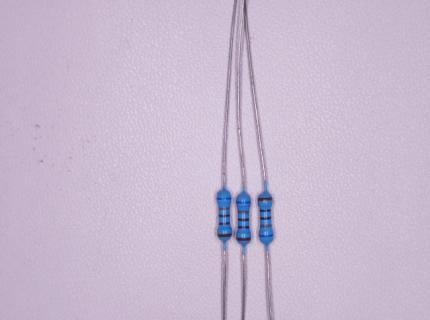Black band: (219, 214, 230, 218), (260, 217, 272, 220), (238, 226, 250, 229), (260, 209, 271, 212), (238, 218, 249, 221), (219, 222, 230, 225)
Blue band: (236, 200, 251, 204), (259, 234, 274, 238), (217, 197, 232, 200)
Brown band: (235, 237, 251, 241), (217, 233, 232, 237), (258, 197, 273, 201)
Grey band: (219, 206, 230, 211), (238, 210, 250, 214), (260, 224, 272, 228)
